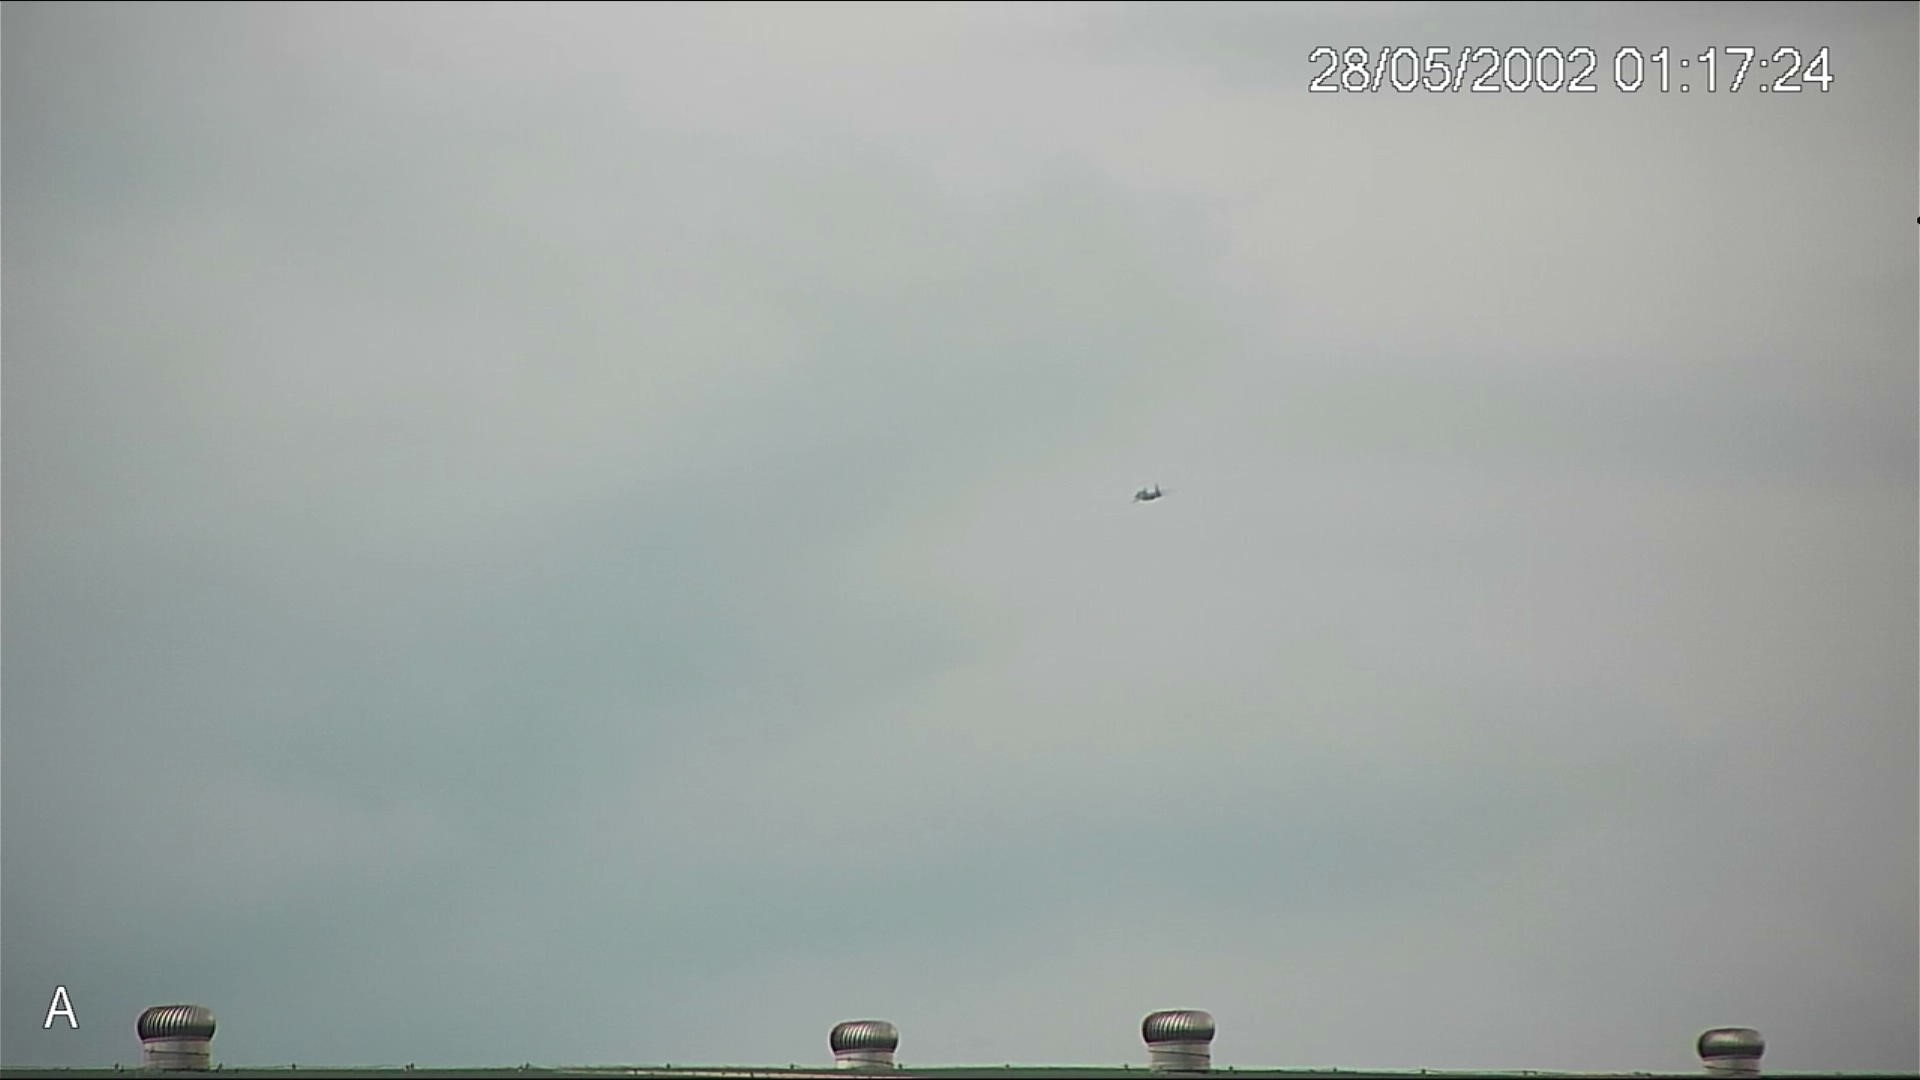SU_30: (1131, 485, 1170, 508)
